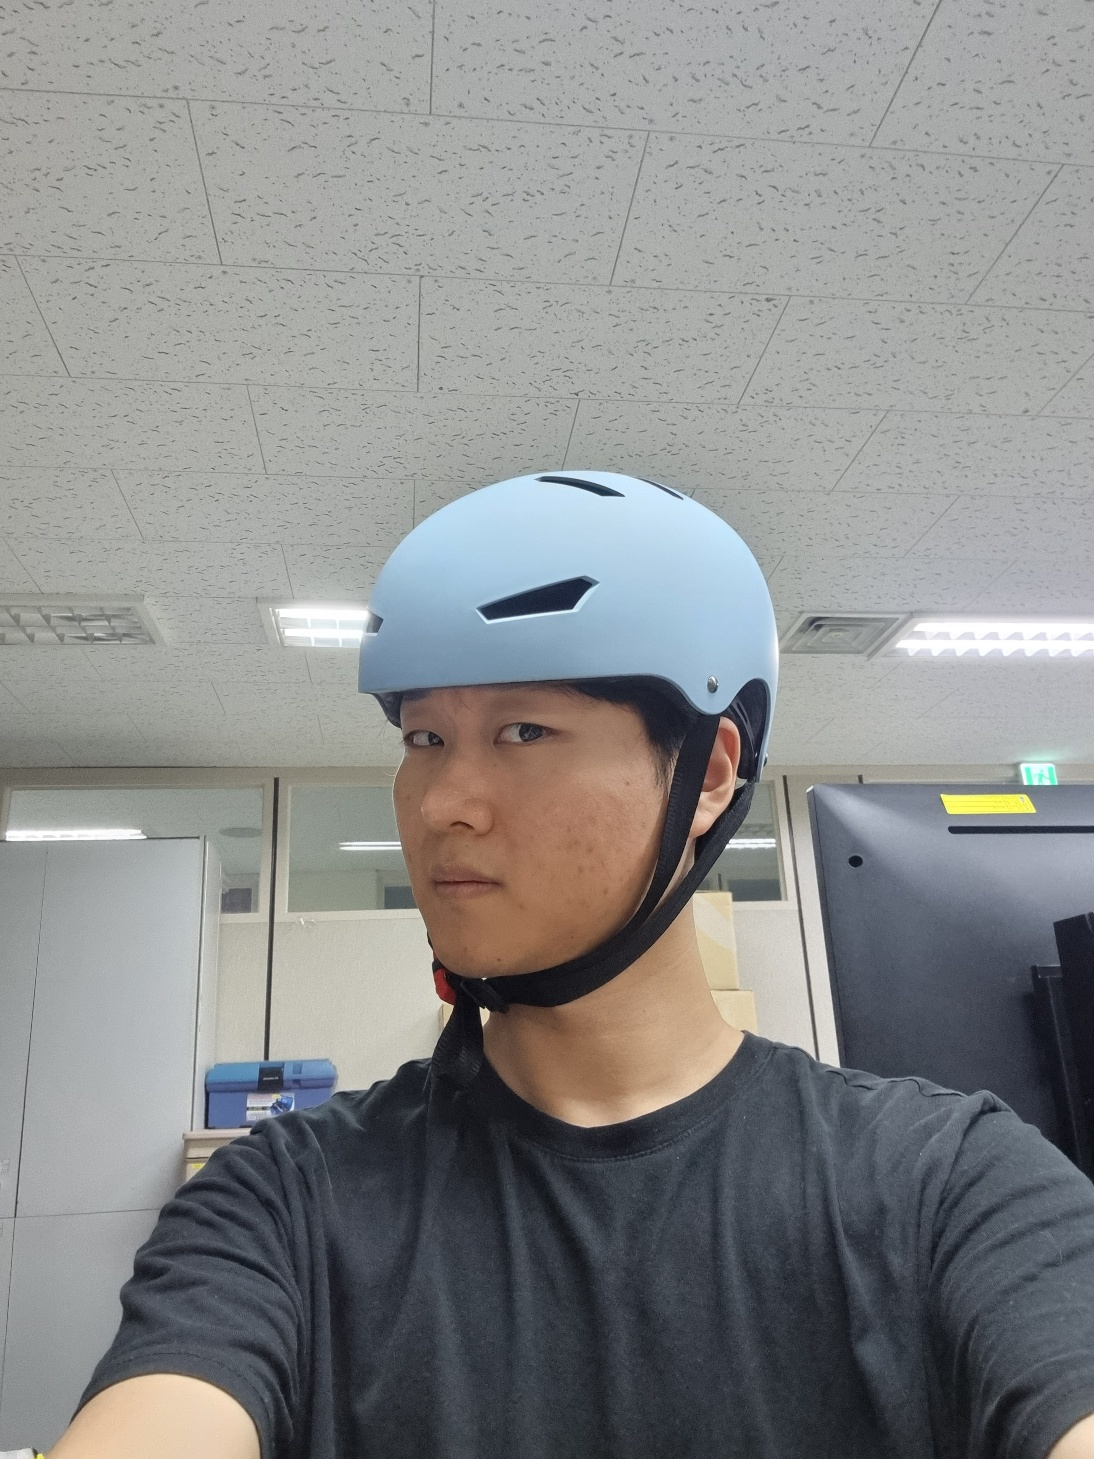Helmet: (334, 434, 823, 1059)
